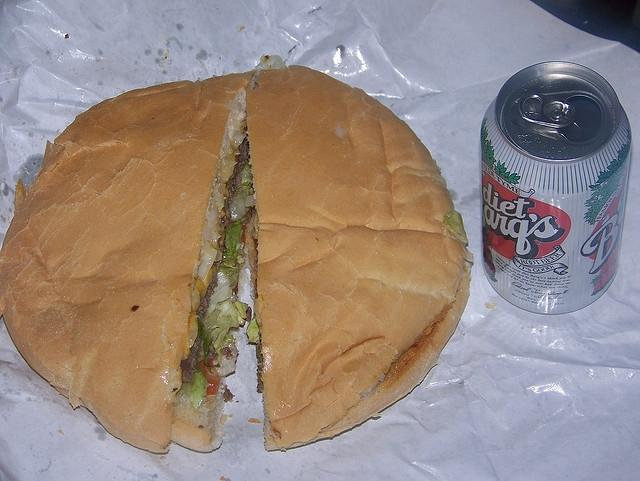lettuce: (202, 300, 240, 348), (209, 267, 235, 306), (228, 188, 250, 222), (190, 362, 206, 406), (443, 210, 467, 238), (225, 222, 243, 256), (216, 334, 233, 364), (246, 314, 260, 344), (238, 159, 252, 186), (224, 268, 238, 276)
onion: (209, 267, 236, 305), (198, 240, 218, 281), (228, 188, 250, 222), (214, 361, 236, 376), (232, 131, 246, 147), (244, 194, 256, 206)
